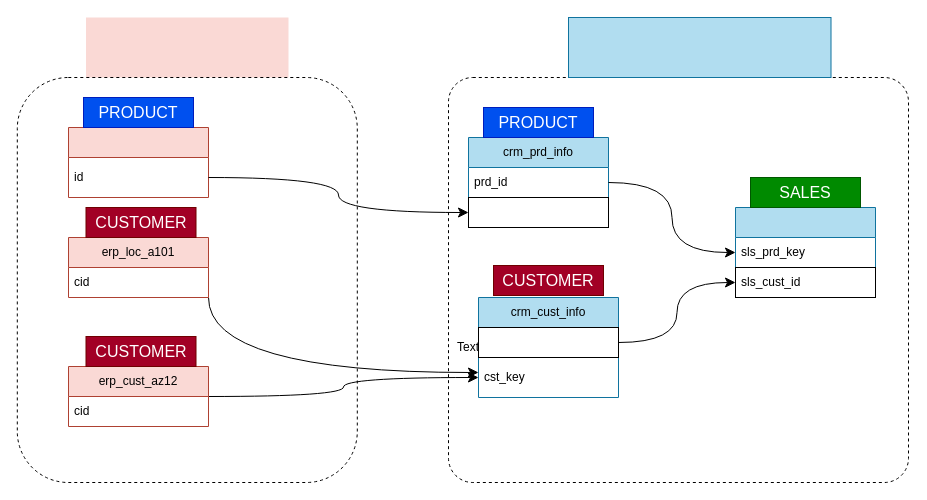
Image size: 927x500. Some labels were removed from this diagram. Each missing label, with the box of its shape:
CRM TABLES: (568, 16, 831, 78)
crm_sales_details: (734, 206, 876, 298)
cust_id: (478, 326, 618, 358)
ERP TABLES: (86, 17, 288, 77)
erp_px_cat_g1v2: (68, 126, 208, 198)
prd_key: (468, 196, 608, 228)
